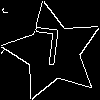L: (28, 27, 62, 76)
